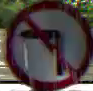Don't turn left: (6, 4, 88, 90)
